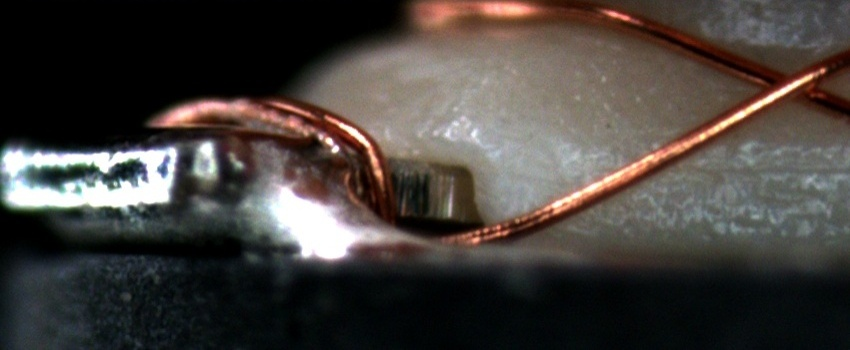CL: (735, 53, 840, 113)
DL: (669, 141, 850, 195)
TE: (149, 92, 412, 230)
